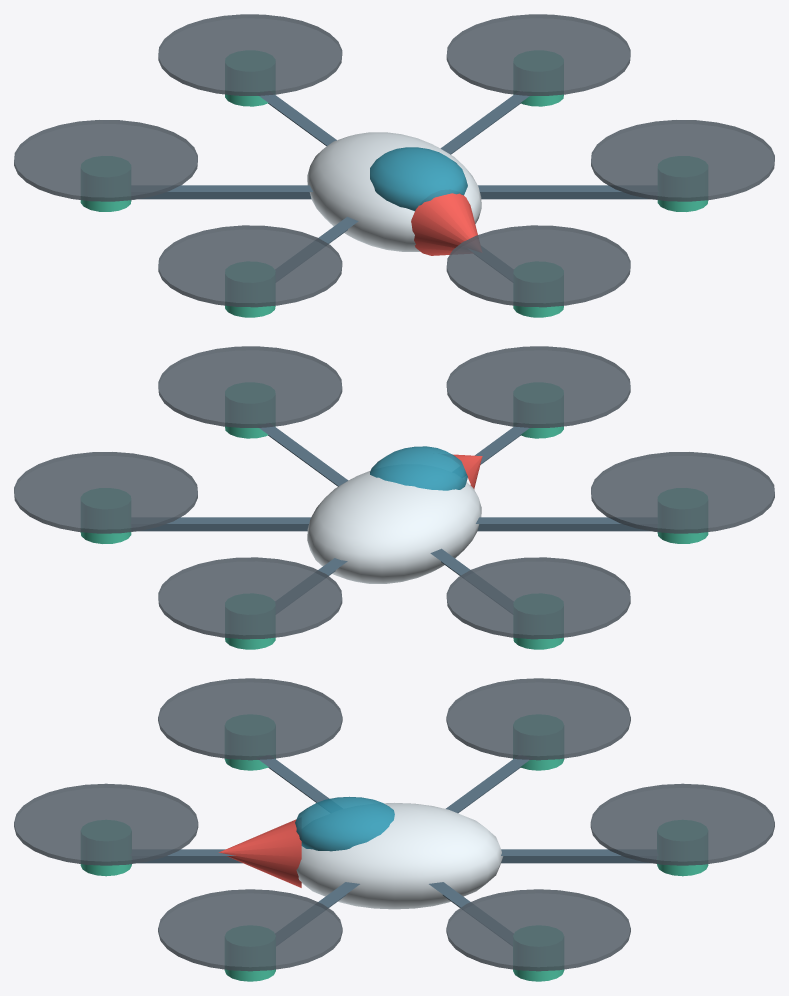
Rendered from hexacopter.glb.
The picture shows the model from 3 angles, top to bottom: view 1: azimuth 30°, elevation 25°; view 2: azimuth 150°, elevation 25°; view 3: azimuth 270°, elevation 25°; orthographic projection.
Visible parts, largest first — view 1: hexacopter; view 2: hexacopter; view 3: hexacopter.
Part boxes in pixels (bbox=[...]): hexacopter: bbox=[14, 14, 774, 317]; hexacopter: bbox=[14, 346, 774, 649]; hexacopter: bbox=[14, 678, 774, 981].
Size of the model in its own units: 5.34 by 0.81 by 5.94.
